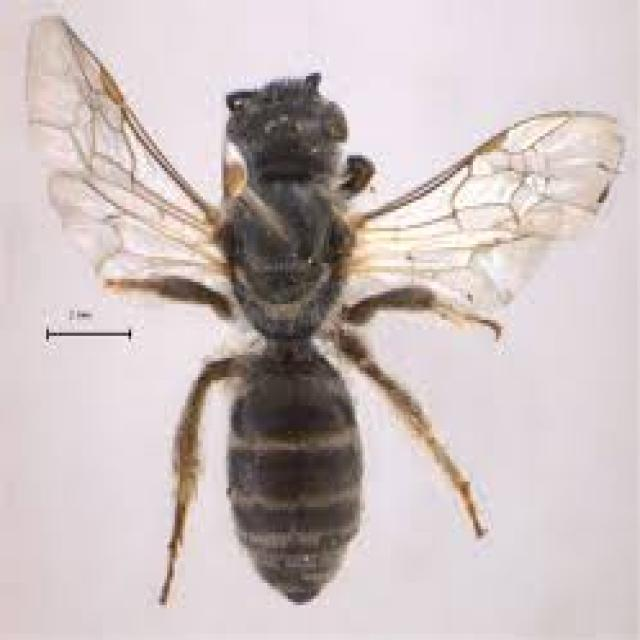Lasioglossum: (5, 9, 621, 610)
